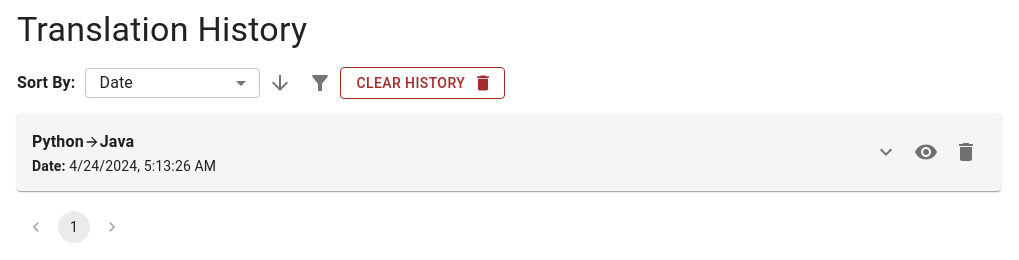
Test: TranslationHistory Component › deletes translation on button click
Expected: the text "Python" is shown, [32,132,84,151]
Click the button named "delete" at coordinates (966, 152), box [946,132,986,172]
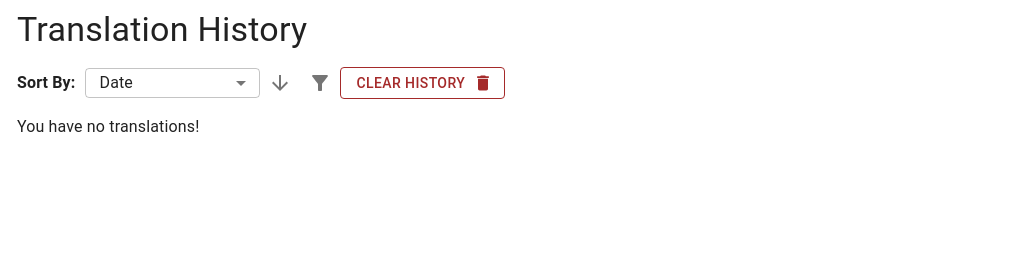
Expected: the heading "You have no translations!" is shown, [17,117,199,136]
